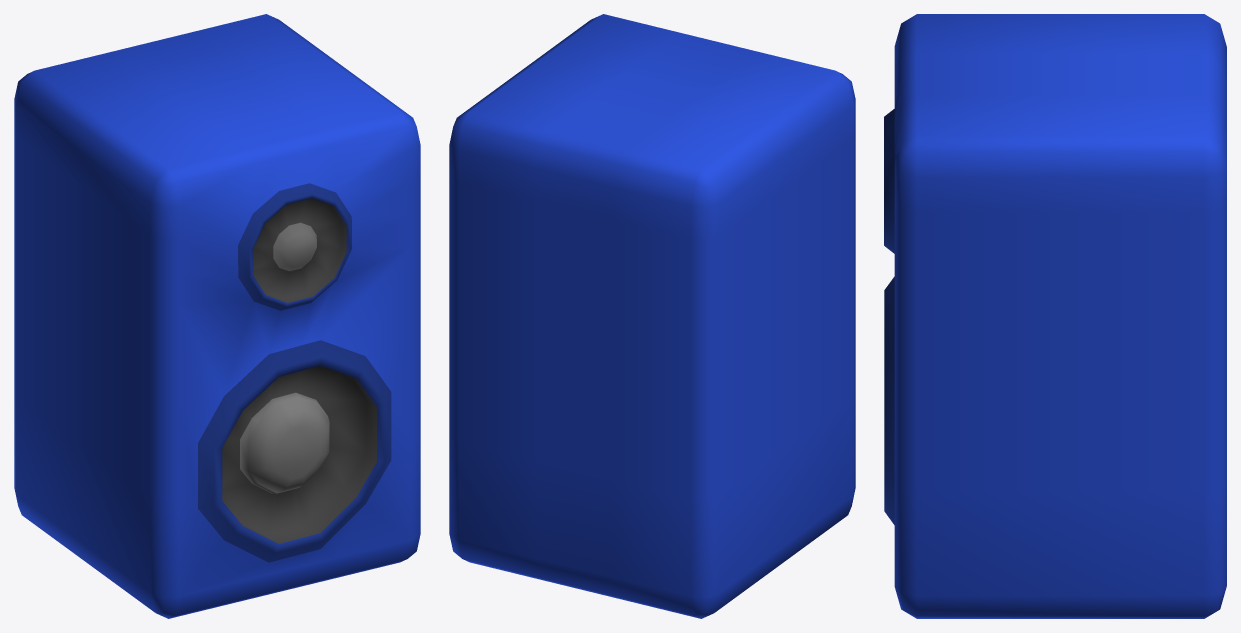
Rendered from OO_Speaker.fbx.
3 renders of one model, left to right at view 1: azimuth 30°, elevation 25°; view 2: azimuth 150°, elevation 25°; view 3: azimuth 270°, elevation 25°, orthographic. The views are drawn at different scales.
Visible parts, largest first — view 1: 0_Speaker; view 2: 0_Speaker; view 3: 0_Speaker.
Part boxes in pixels (x1,y1,x2,y2): 0_Speaker: (14, 14, 420, 618); 0_Speaker: (449, 14, 855, 618); 0_Speaker: (884, 14, 1226, 618).
Bounding box in the file's own units: 150 × 241 × 155.
